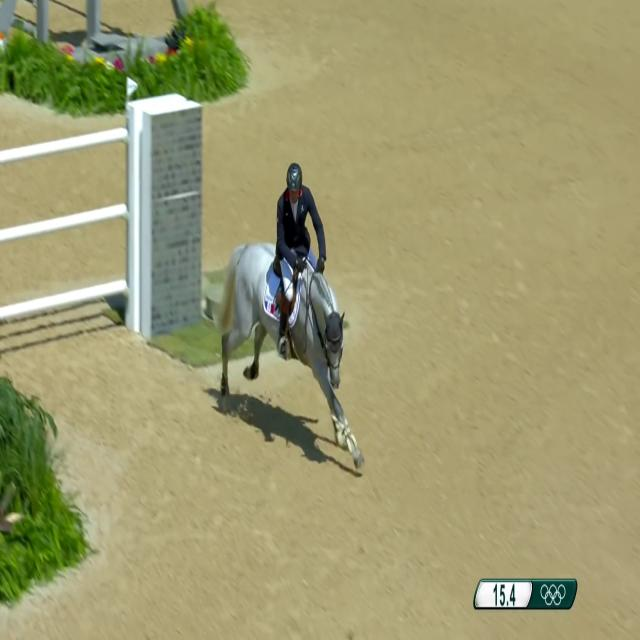Horse Rider: (246, 119, 348, 388)
Horse Running: (205, 222, 380, 480)
